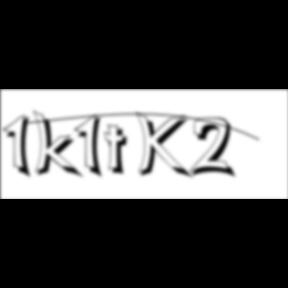1: (3, 114, 38, 182), (74, 114, 108, 182)
2: (190, 117, 240, 181)
K: (136, 110, 196, 182)
k: (32, 108, 86, 181)
t: (104, 124, 136, 179)
